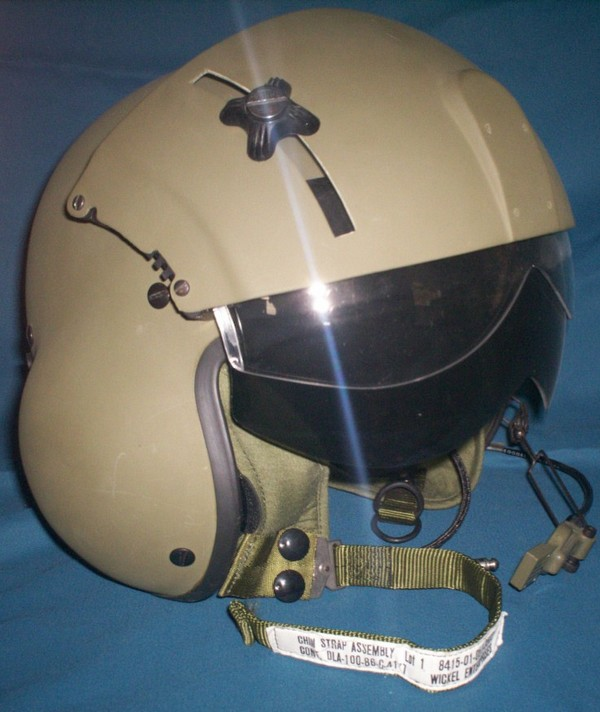helmet: (20, 29, 566, 381)
